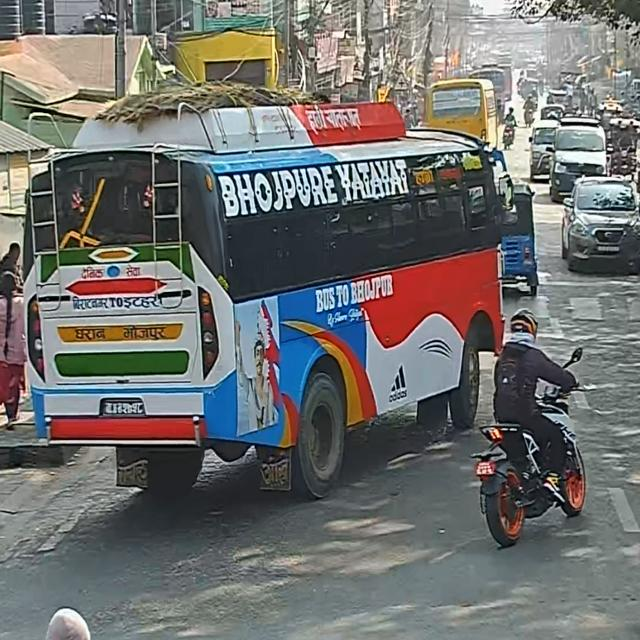license_plate: (86, 371, 159, 443), (471, 448, 506, 490)
